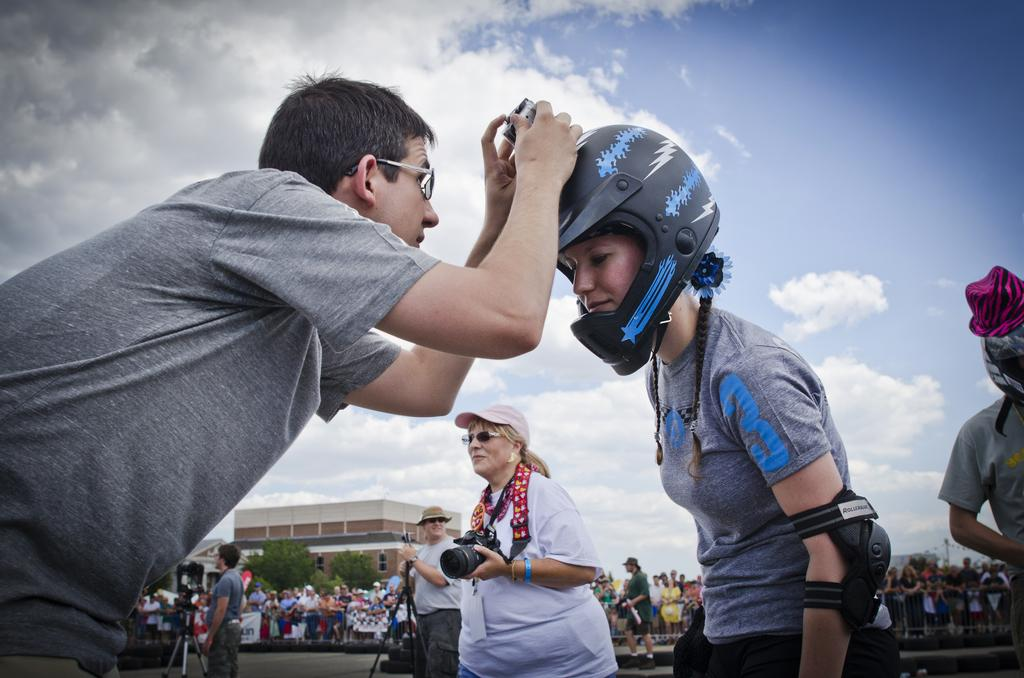helmet: (526, 124, 721, 376)
nohelmet: (257, 76, 444, 292), (453, 402, 532, 484), (415, 505, 453, 539), (213, 543, 242, 572), (622, 556, 639, 574)
